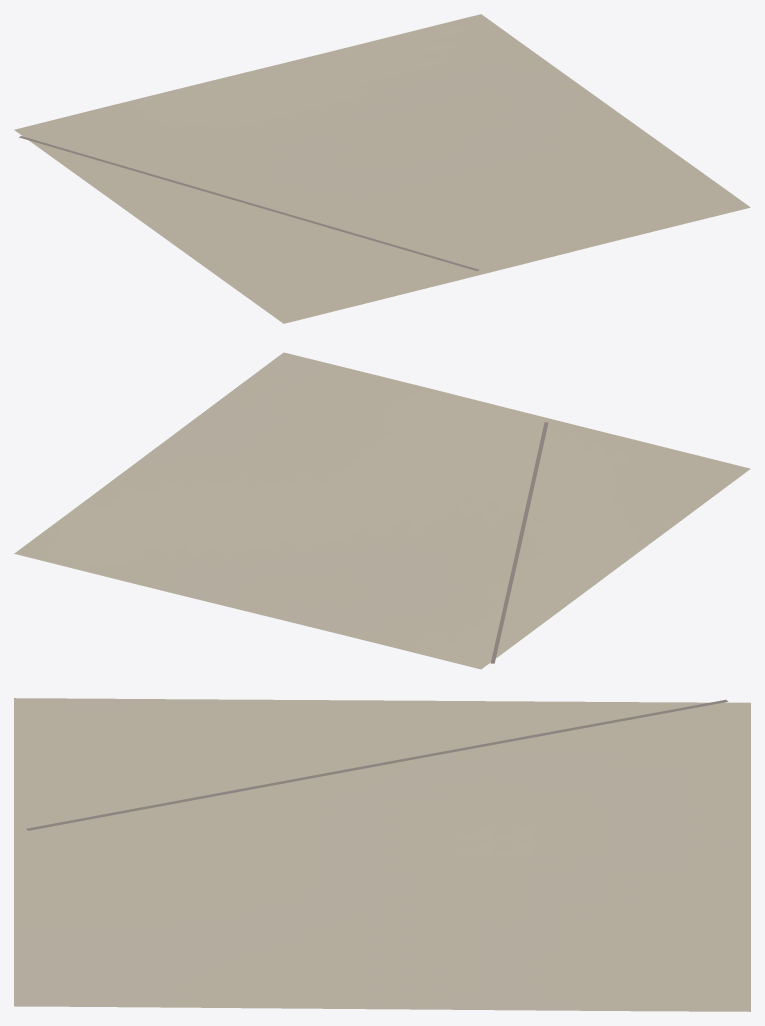
Rendered from bolak_-31_5.glb.
3 views of the same model, one above another, from view 1: azimuth 30°, elevation 25°; view 2: azimuth 150°, elevation 25°; view 3: azimuth 270°, elevation 25° (orthographic). The views are drawn at different scales.
Visible parts, largest first — view 1: Yer_Tuproq-col, Temir_Yol; view 2: Yer_Tuproq-col, Temir_Yol; view 3: Yer_Tuproq-col, Temir_Yol.
Boxes of the visible parts, box(x1,y1,x2,y2) form: Yer_Tuproq-col: box(14, 14, 750, 323); Temir_Yol: box(19, 136, 479, 271); Yer_Tuproq-col: box(14, 352, 750, 669); Temir_Yol: box(490, 422, 548, 663); Yer_Tuproq-col: box(14, 698, 750, 1011); Temir_Yol: box(26, 699, 728, 830).
Bounding box in the file's own units: 404 × 4.67 × 400.
